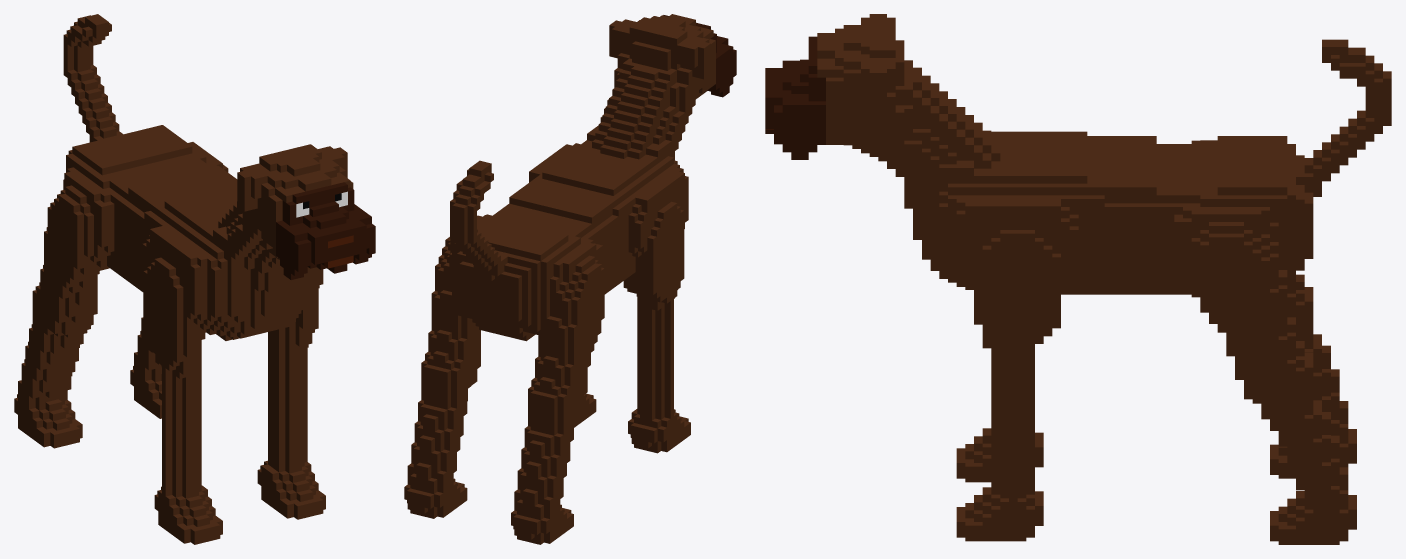
Rendered from dog.gltf.
3 views of the same model, side by side, from view 1: azimuth 30°, elevation 25°; view 2: azimuth 150°, elevation 25°; view 3: azimuth 270°, elevation 25° (orthographic). The views are drawn at different scales.
Visible parts, largest first — view 1: dog_mars; view 2: dog_mars; view 3: dog_mars.
Boxes of the visible parts, <box> form: dog_mars: <box>14,14,375,544</box>; dog_mars: <box>404,14,736,544</box>; dog_mars: <box>765,14,1391,544</box>.
Bounding box in the file's own units: 2.4 × 5.9 × 7.2.
Materials: 1 (1 with a texture image).
